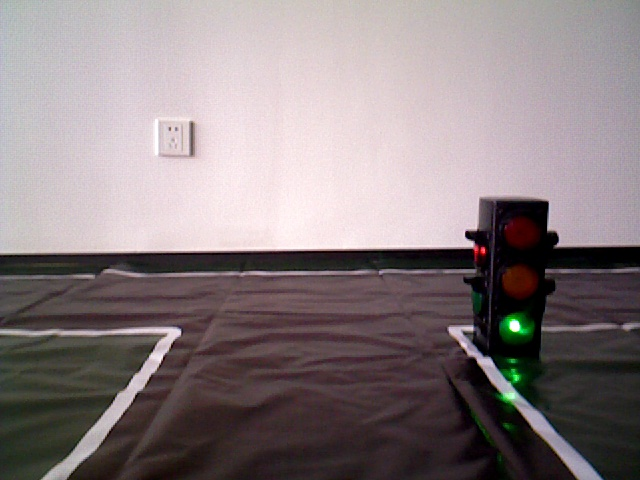green: (479, 196, 545, 349)
